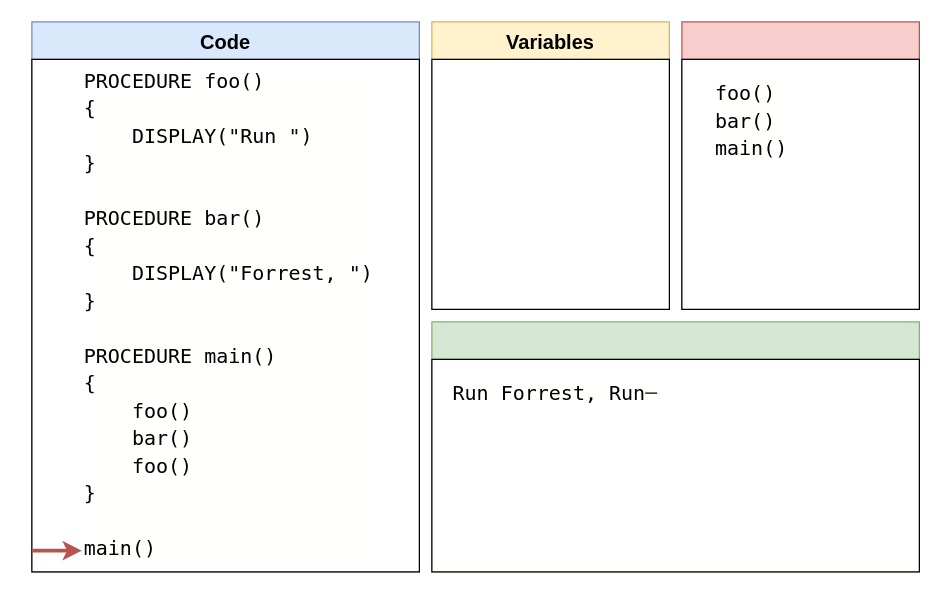
This 941x594 diagram has some shape labels left out. The shapes that lost their labels are listed below. From the top down, each one's box as (x1, y1, x2, y2) in pixels, then its label:
(681, 21, 919, 309): Procedures
(431, 321, 919, 572): Output
